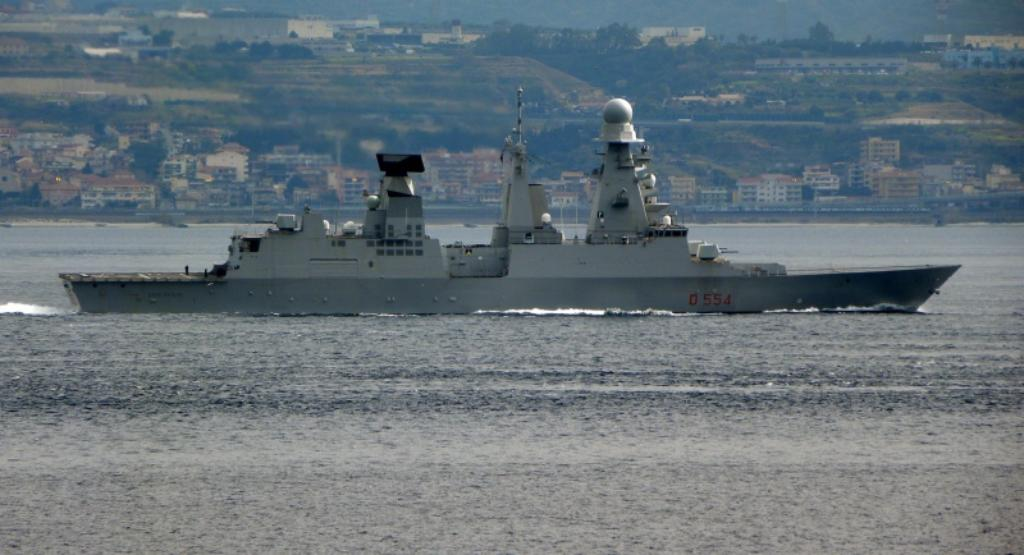Warship: (54, 86, 966, 317)
